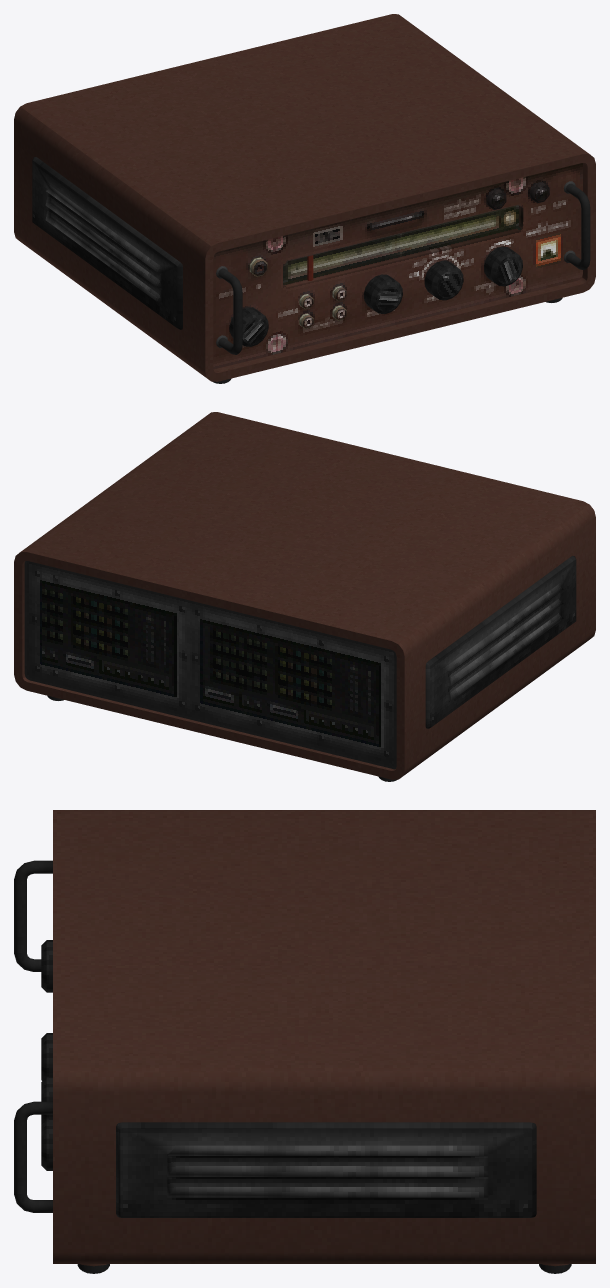
The model's file is military_radio_1.glb.
3 renders of one model, top to bottom at view 1: azimuth 30°, elevation 25°; view 2: azimuth 150°, elevation 25°; view 3: azimuth 270°, elevation 25°, orthographic. The views are drawn at different scales.
Parts seen in each view (by area): view 1: military_radio_1; view 2: military_radio_1; view 3: military_radio_1.
Part boxes in pixels (box(x1,y1,x2,y2)): military_radio_1: box(14, 14, 595, 383); military_radio_1: box(14, 412, 595, 781); military_radio_1: box(14, 810, 595, 1273).
Bounding box in the file's own units: 0.49 × 0.175 × 0.4288.
Materials: 2 (2 with a texture image).
